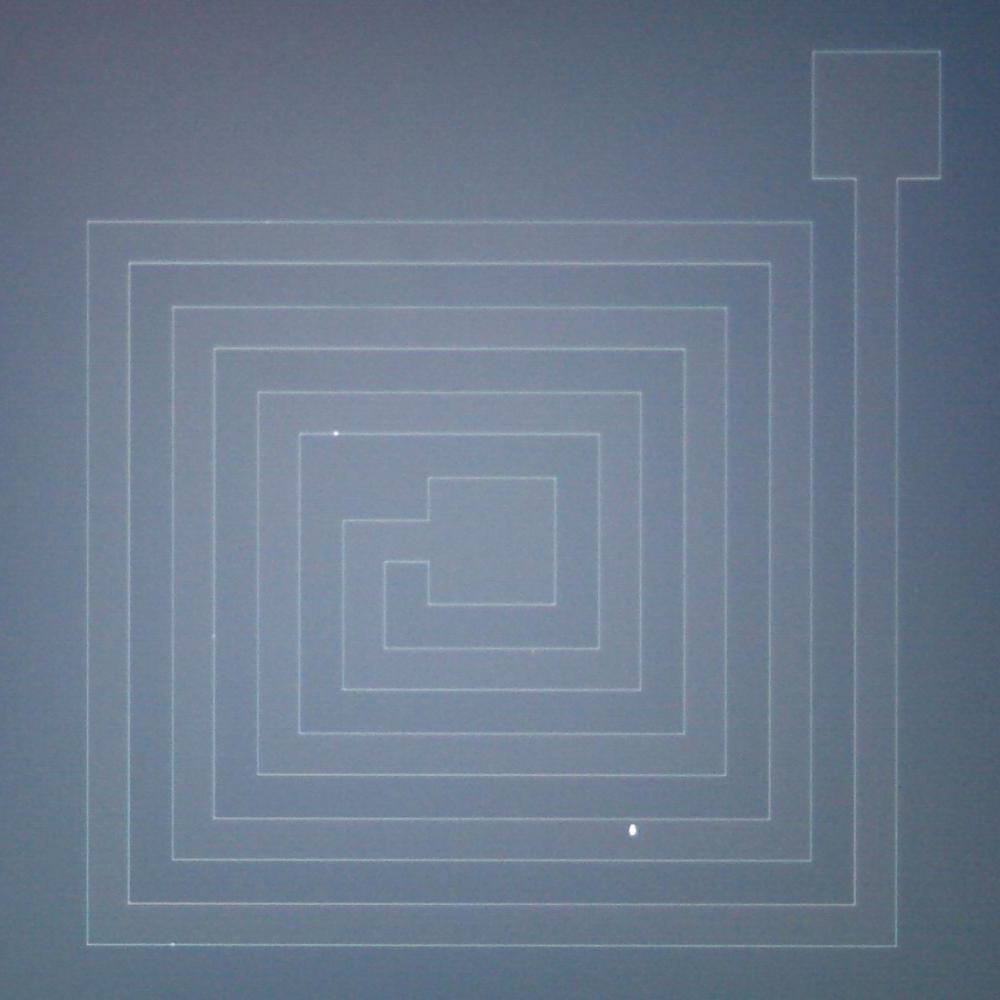dot: (318, 416, 351, 446)
spot: (618, 816, 646, 842)
